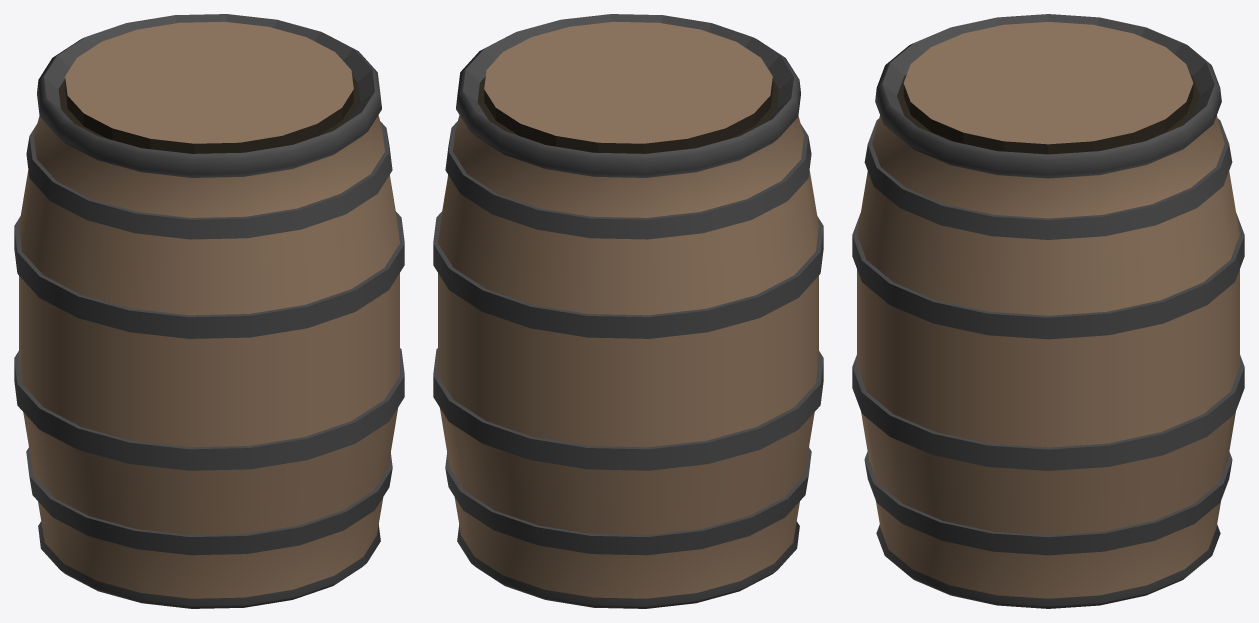
The model's file is p_barrel.fbx.
3 views of the same model, side by side, from view 1: azimuth 30°, elevation 25°; view 2: azimuth 150°, elevation 25°; view 3: azimuth 270°, elevation 25° (orthographic).
Visible parts, largest first — view 1: Barrel; view 2: Barrel; view 3: Barrel.
Boxes of the visible parts, x1,y1,x2,y2 form: Barrel: [14, 14, 404, 608]; Barrel: [433, 14, 823, 608]; Barrel: [852, 14, 1244, 608].
Size of the model in its own units: 108 by 139 by 108.
